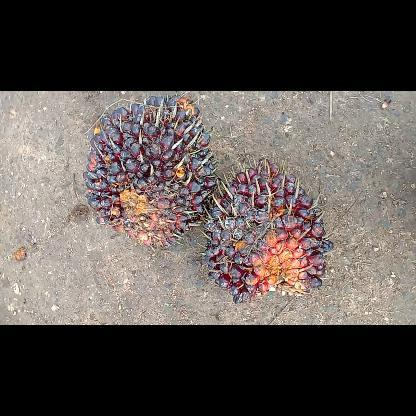Kurang masak: (81, 93, 222, 250), (202, 155, 335, 305)
